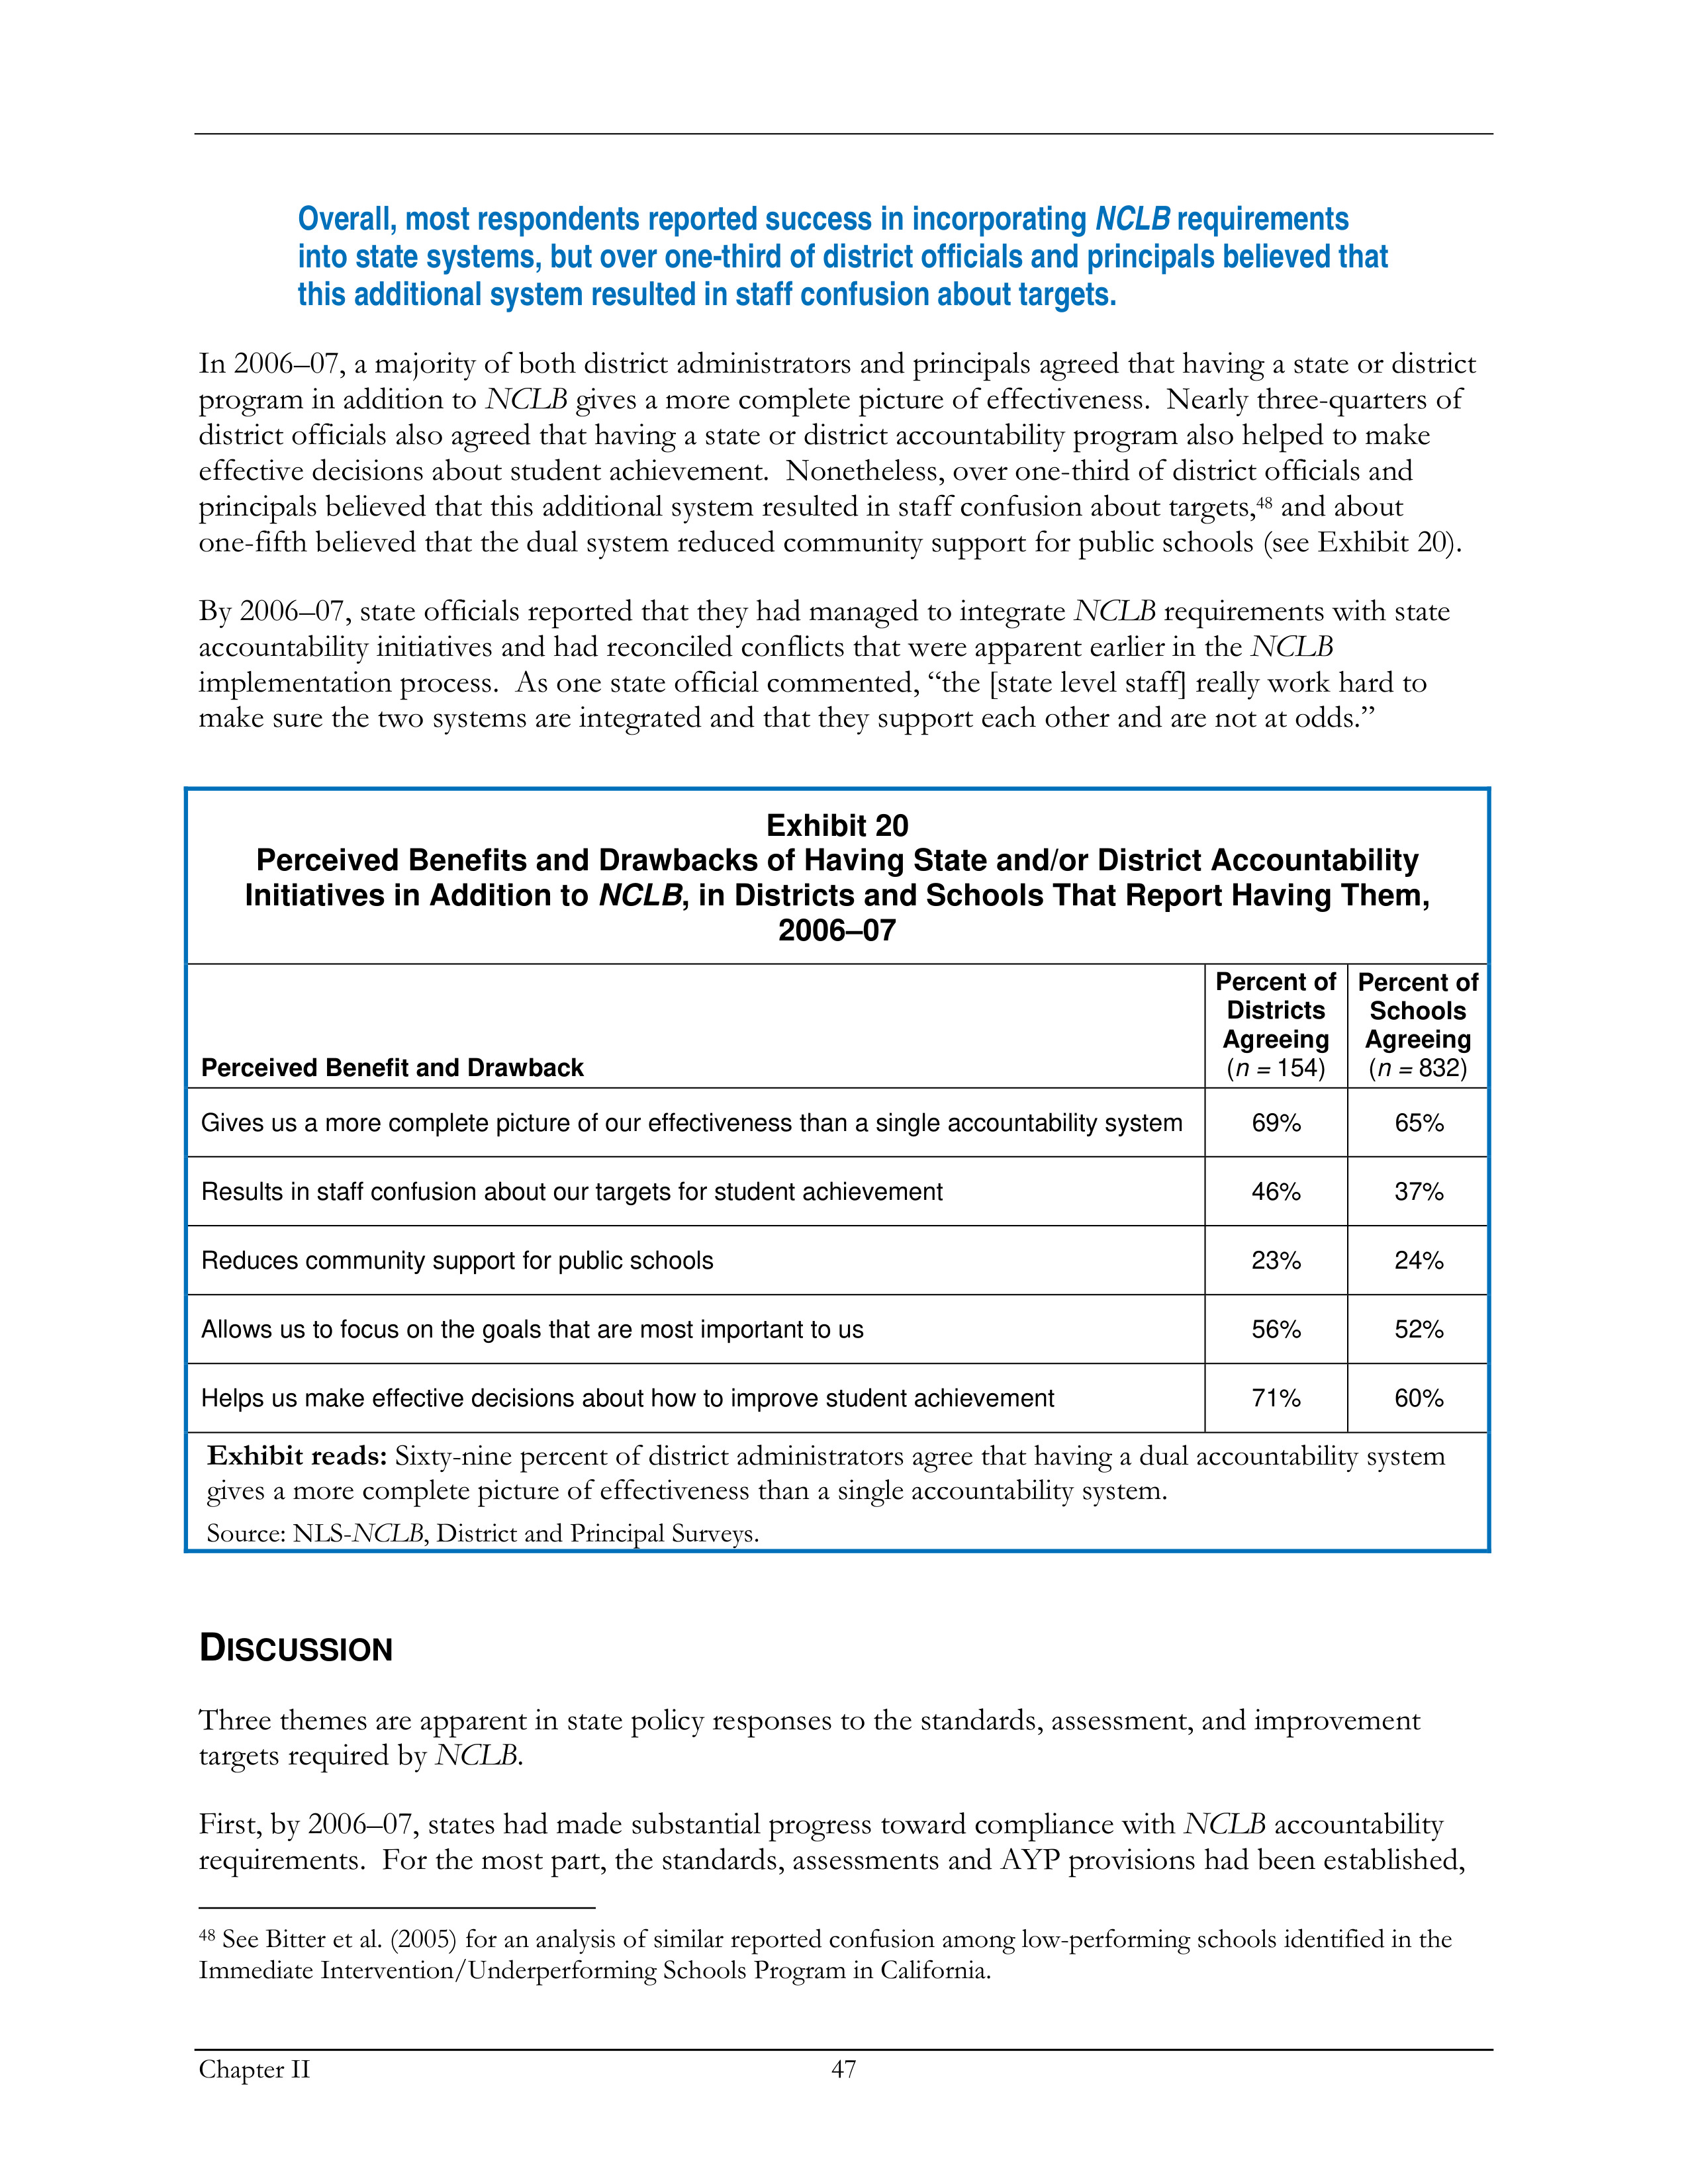table: (200, 964, 1479, 1413)
